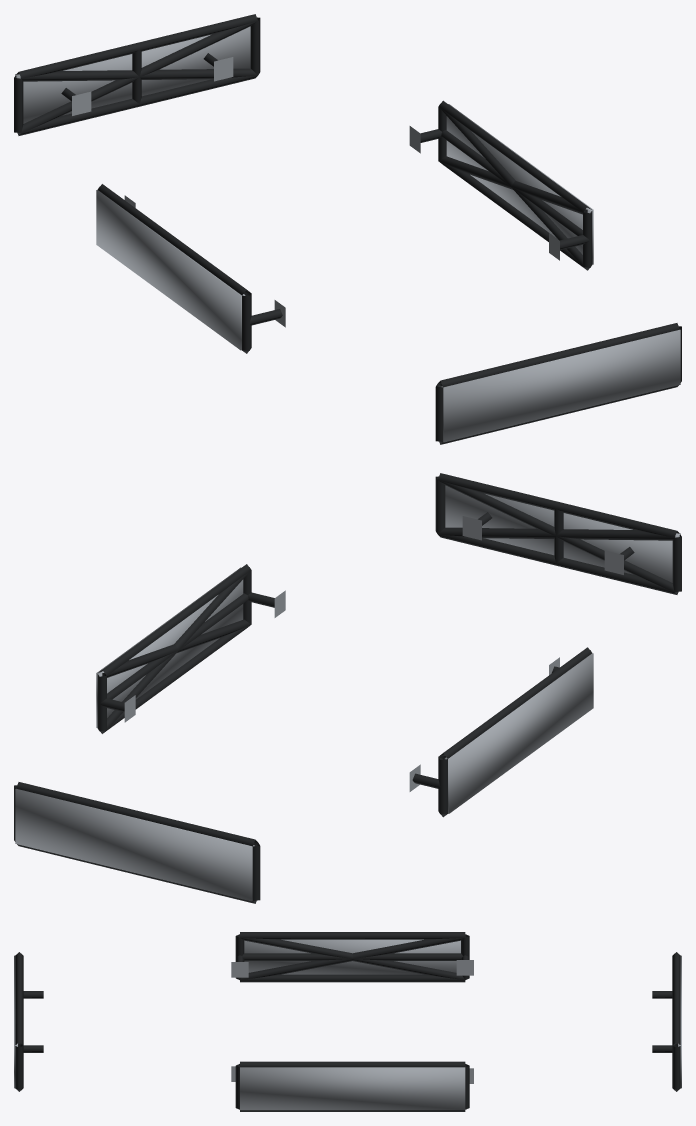
File: rauhe_boleia_protecao.glb
3 renders of one model, top to bottom at view 1: azimuth 30°, elevation 25°; view 2: azimuth 150°, elevation 25°; view 3: azimuth 270°, elevation 25°, orthographic. The views are drawn at different scales.
Parts seen in each view (by area): view 1: Protection_front_Level3_Details, Protection_left_Level3_Details, Protection_rear_Level1_Details, Protection_rear_Level3_Details, Protection_right_Level1_Details, Protection_rear_Level2_Details, Protection_right_Level2_Details, Protection_right_Level3_Details, Protection_front_Level1_Details, Protection_left_Level1_Details; view 2: Protection_rear_Level3_Details, Protection_left_Level3_Details, Protection_front_Level1_Details, Protection_front_Level3_Details, Protection_right_Level1_Details, Protection_front_Level2_Details, Protection_right_Level2_Details, Protection_right_Level3_Details, Protection_rear_Level1_Details, Protection_left_Level1_Details; view 3: Protection_right_Level3_Details, Protection_left_Level1_Details, Protection_left_Level2_Details, Protection_left_Level3_Details, Protection_right_Level1_Details, Protection_rear_Level1_Details, Protection_front_Level1_Details.
Boxes of the visible parts, box(x1,y1,x2,y2) form: Protection_front_Level3_Details: box(441, 329, 680, 442); Protection_left_Level3_Details: box(96, 190, 245, 350); Protection_rear_Level1_Details: box(14, 14, 260, 135); Protection_rear_Level3_Details: box(15, 26, 250, 123); Protection_right_Level1_Details: box(409, 100, 592, 270); Protection_rear_Level2_Details: box(16, 21, 257, 134); Protection_right_Level2_Details: box(439, 107, 591, 269); Protection_right_Level3_Details: box(446, 104, 593, 264); Protection_front_Level1_Details: box(435, 323, 681, 444); Protection_left_Level1_Details: box(97, 184, 285, 353); Protection_rear_Level3_Details: box(15, 788, 254, 901); Protection_left_Level3_Details: box(444, 653, 593, 813); Protection_front_Level1_Details: box(435, 473, 681, 594); Protection_front_Level3_Details: box(445, 485, 680, 582); Protection_right_Level1_Details: box(97, 564, 285, 733); Protection_front_Level2_Details: box(438, 480, 679, 593); Protection_right_Level2_Details: box(99, 571, 250, 733); Protection_right_Level3_Details: box(96, 567, 243, 727); Protection_rear_Level1_Details: box(14, 782, 260, 903); Protection_left_Level1_Details: box(409, 647, 591, 817); Protection_right_Level3_Details: box(240, 1067, 465, 1110); Protection_left_Level1_Details: box(231, 932, 473, 982); Protection_left_Level2_Details: box(239, 935, 465, 980); Protection_left_Level3_Details: box(244, 939, 460, 974); Protection_right_Level1_Details: box(231, 1061, 473, 1111); Protection_rear_Level1_Details: box(652, 952, 680, 1091); Protection_front_Level1_Details: box(15, 952, 43, 1091).
Size of the model in its own units: 2.03 by 0.354 by 4.27.
Materials: 1 (1 with a texture image).
